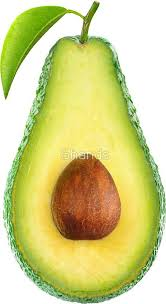aguacate: (8, 27, 161, 304)
